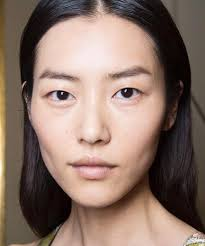person: (19, 1, 191, 212)
